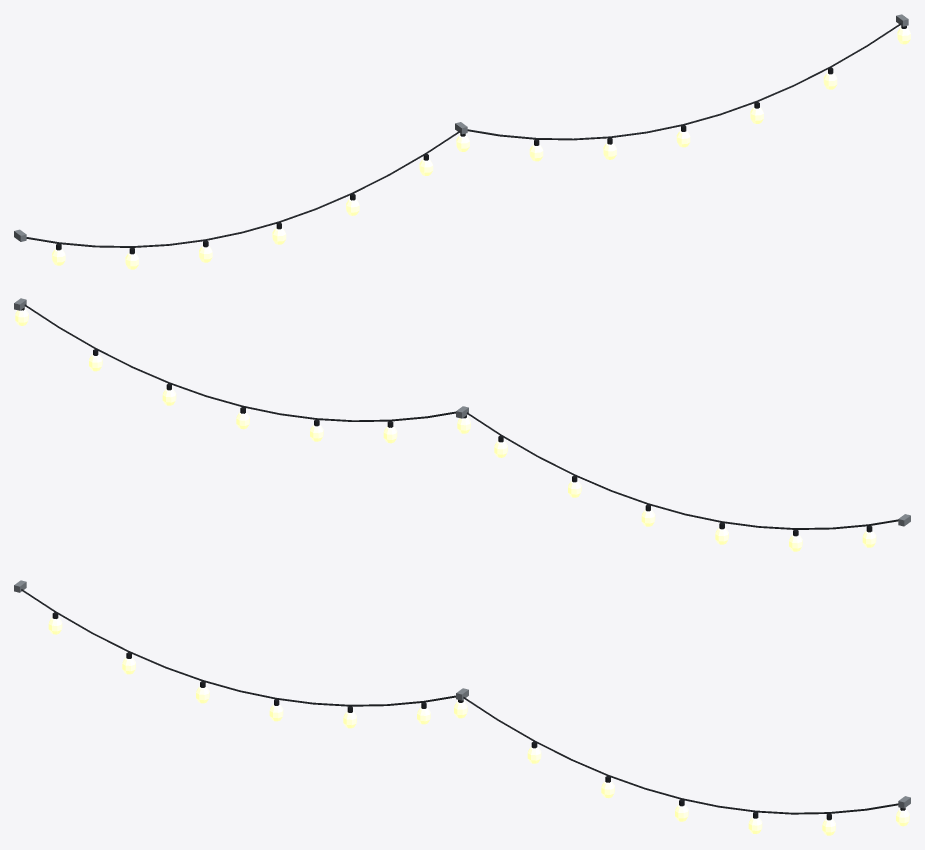
File: string_lights.glb
3 renders of one model, top to bottom at view 1: azimuth 30°, elevation 25°; view 2: azimuth 150°, elevation 25°; view 3: azimuth 330°, elevation 25°, orthographic.
Parts seen in each view (by area): view 1: StringLights; view 2: StringLights; view 3: StringLights.
Part boxes in pixels (bbox=[...]): StringLights: bbox=[14, 14, 910, 269]; StringLights: bbox=[14, 298, 910, 551]; StringLights: bbox=[14, 580, 910, 835].
Bounding box in the file's own units: 3.03 × 0.243 × 0.0509.
